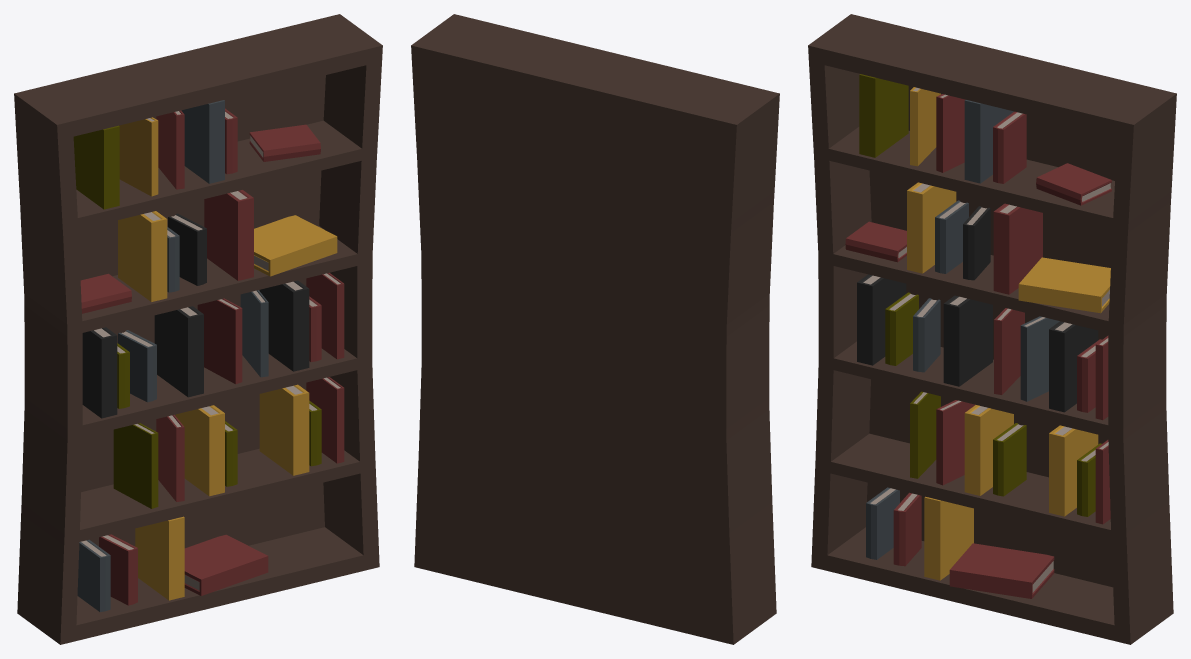
The model's file is LPHorror_BookShelf.fbx.
3 renders of one model, left to right at view 1: azimuth 30°, elevation 25°; view 2: azimuth 150°, elevation 25°; view 3: azimuth 330°, elevation 25°, orthographic.
Visible parts, largest first — view 1: BookShelf; view 2: BookShelf; view 3: BookShelf.
Boxes of the visible parts, x1,y1,x2,y2 form: BookShelf: (14, 14, 382, 644); BookShelf: (411, 14, 779, 644); BookShelf: (808, 14, 1176, 644).
Size of the model in its own units: 164 by 250 by 38.53.
